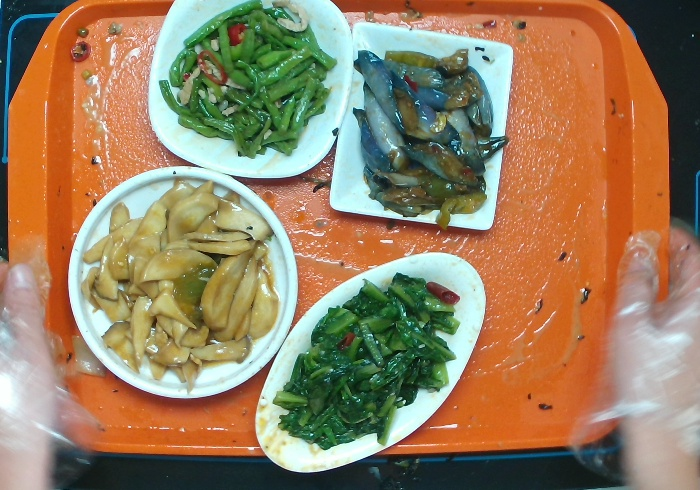HZYJPL-Si_Fang_Die: (327, 18, 514, 233)
HZYJPL-Si_Fang_Yuan_Die: (146, 1, 355, 180)
HZYJPL-Xiao_Yu_Die: (255, 249, 485, 478)
HZYJPL-Xiao_Yuan_Die: (68, 160, 302, 404)
